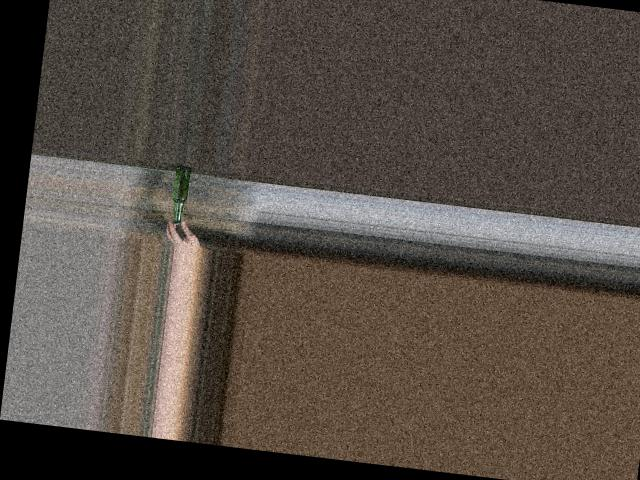beer: (169, 165, 191, 225)
